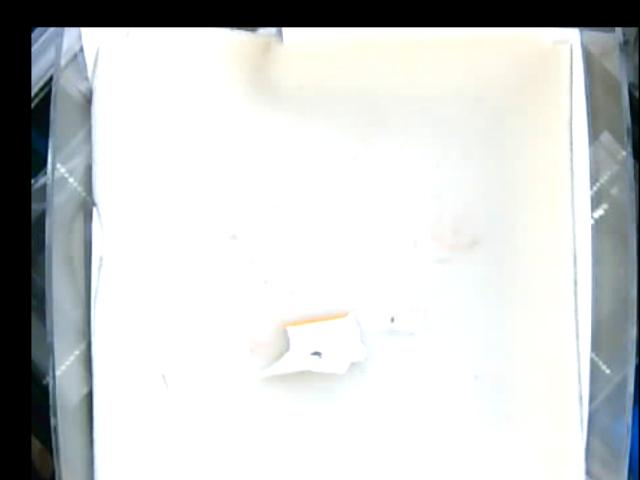China: (256, 315, 373, 381)
